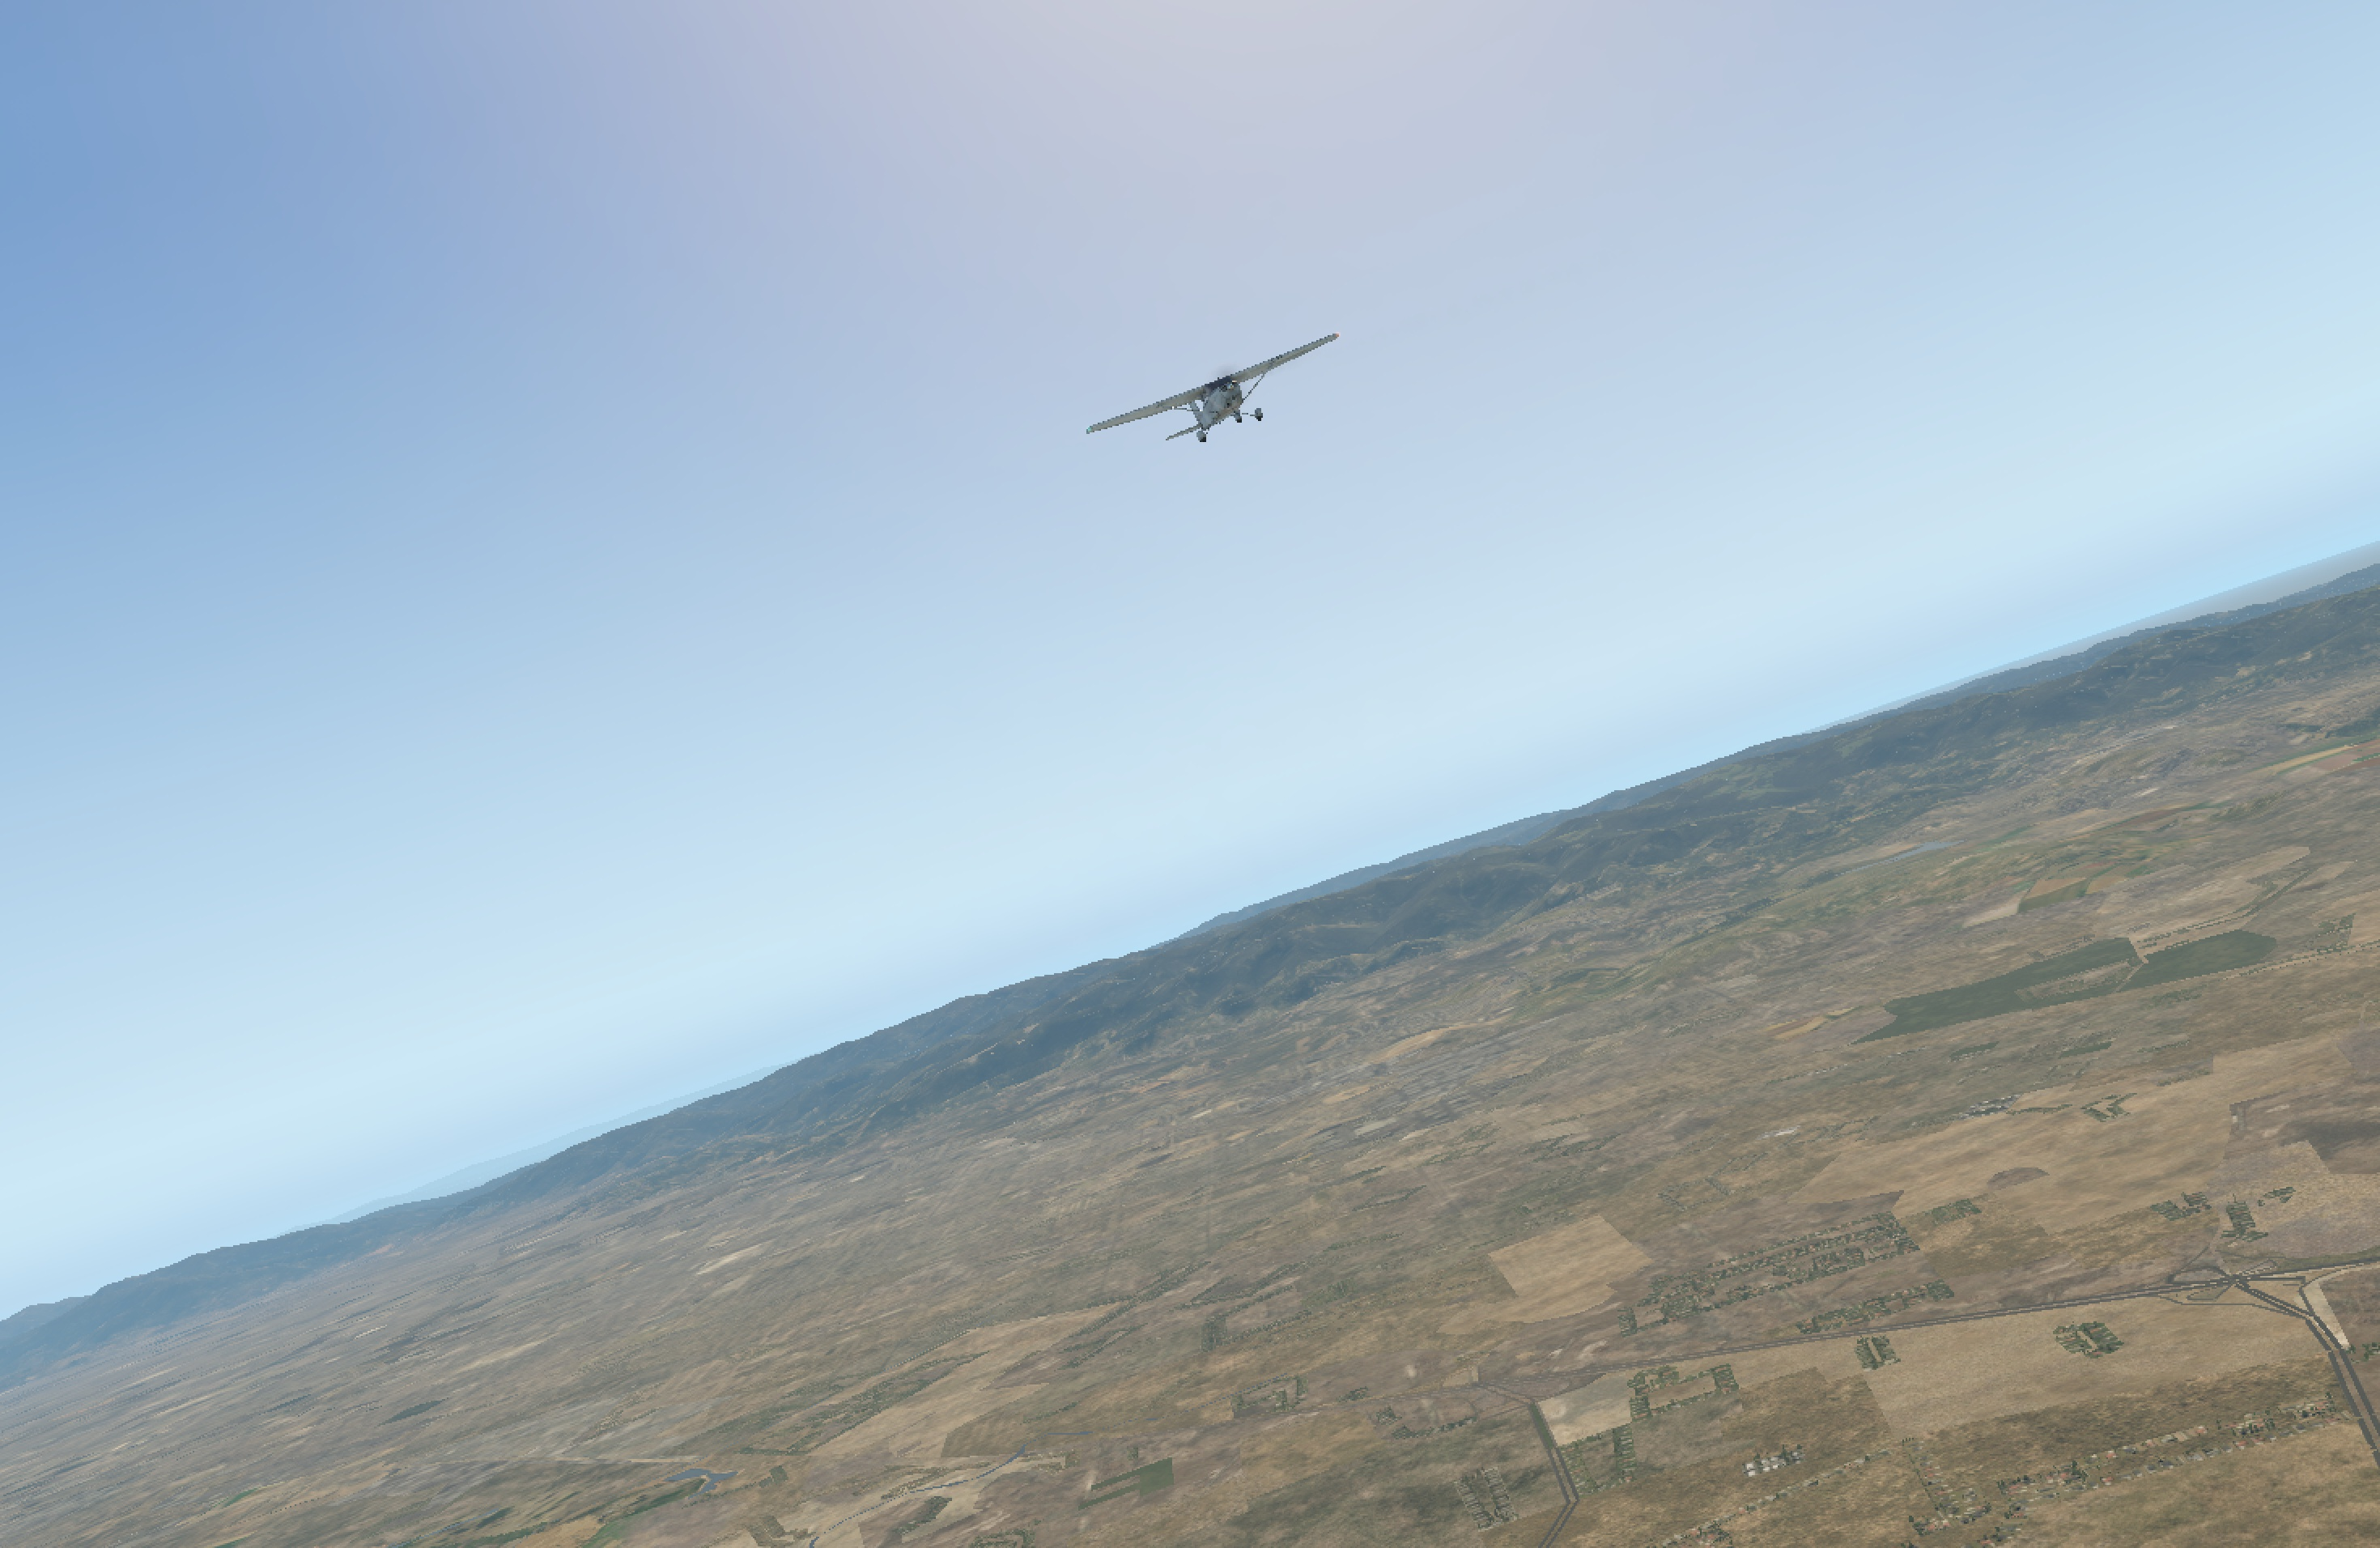aircraft: (1122, 361, 1318, 434)
